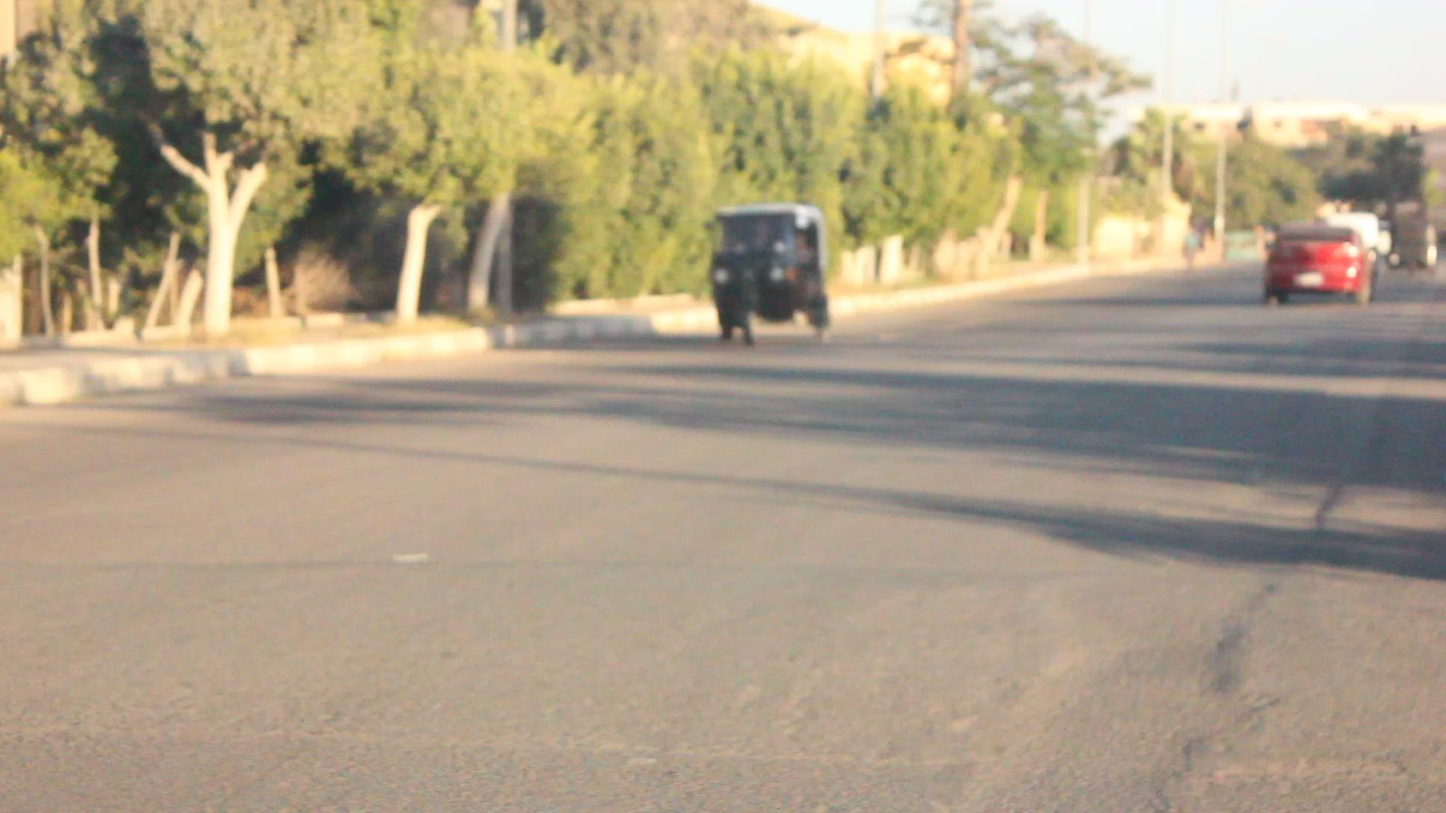Bump: (924, 358, 1395, 812)
